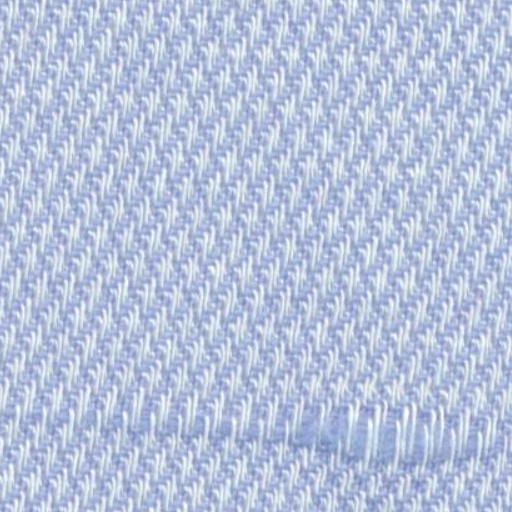DaiSha: (148, 382, 505, 478)
